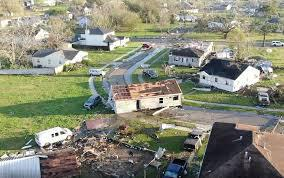destroyed: (102, 79, 194, 117)
minor: (200, 55, 266, 93)
